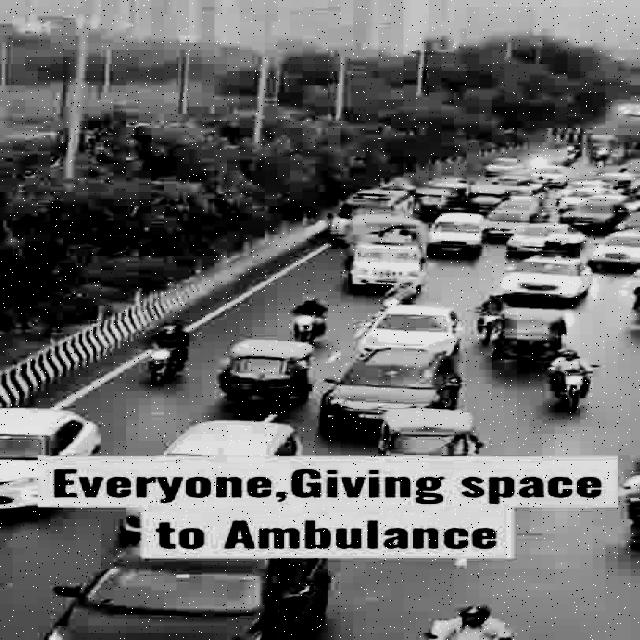Ambulance: (326, 185, 418, 224)
